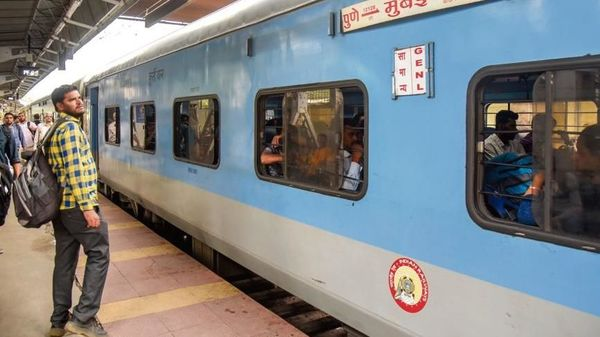train: (72, 0, 599, 332)
